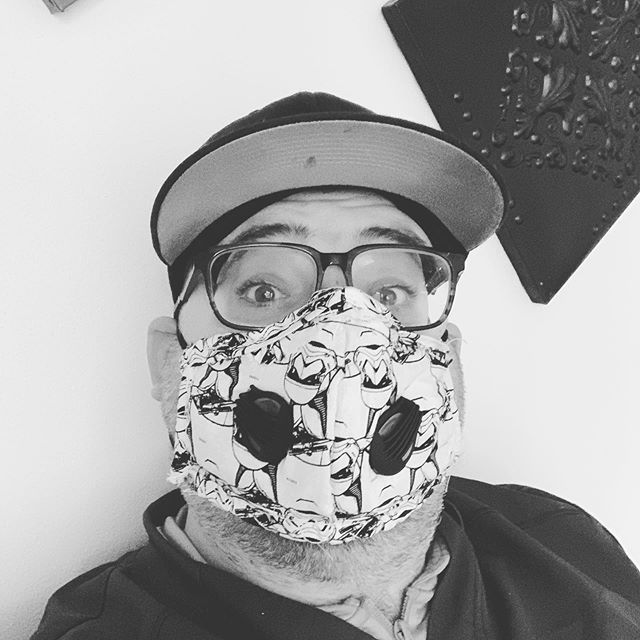homemade: (162, 283, 496, 544)
